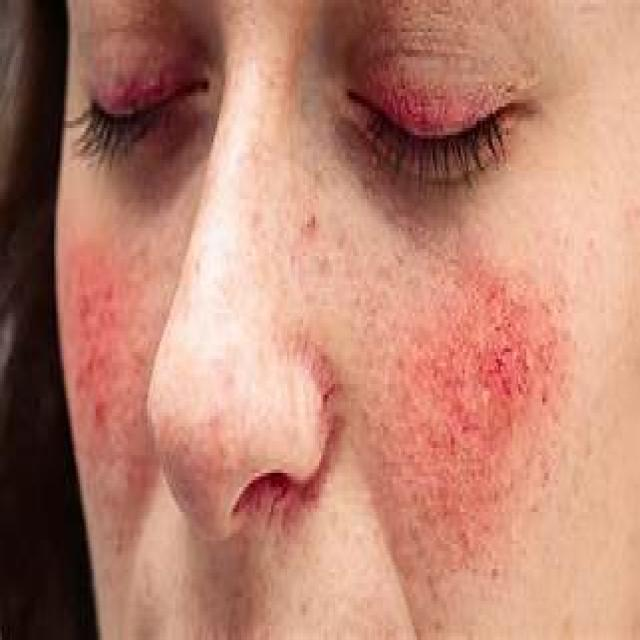Rosacea: (430, 310, 563, 470)
